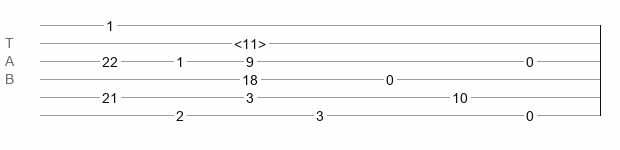0: (386, 72, 394, 82), (526, 108, 534, 118), (526, 54, 534, 64)
1: (106, 18, 114, 28), (176, 54, 184, 64)
10: (452, 90, 468, 100)
18: (242, 72, 258, 82)
2: (176, 108, 184, 118)
21: (102, 90, 118, 100)
22: (102, 54, 118, 64)
3: (246, 90, 254, 100), (316, 108, 324, 118)
9: (246, 54, 254, 64)
harmonic: (234, 36, 266, 46)
